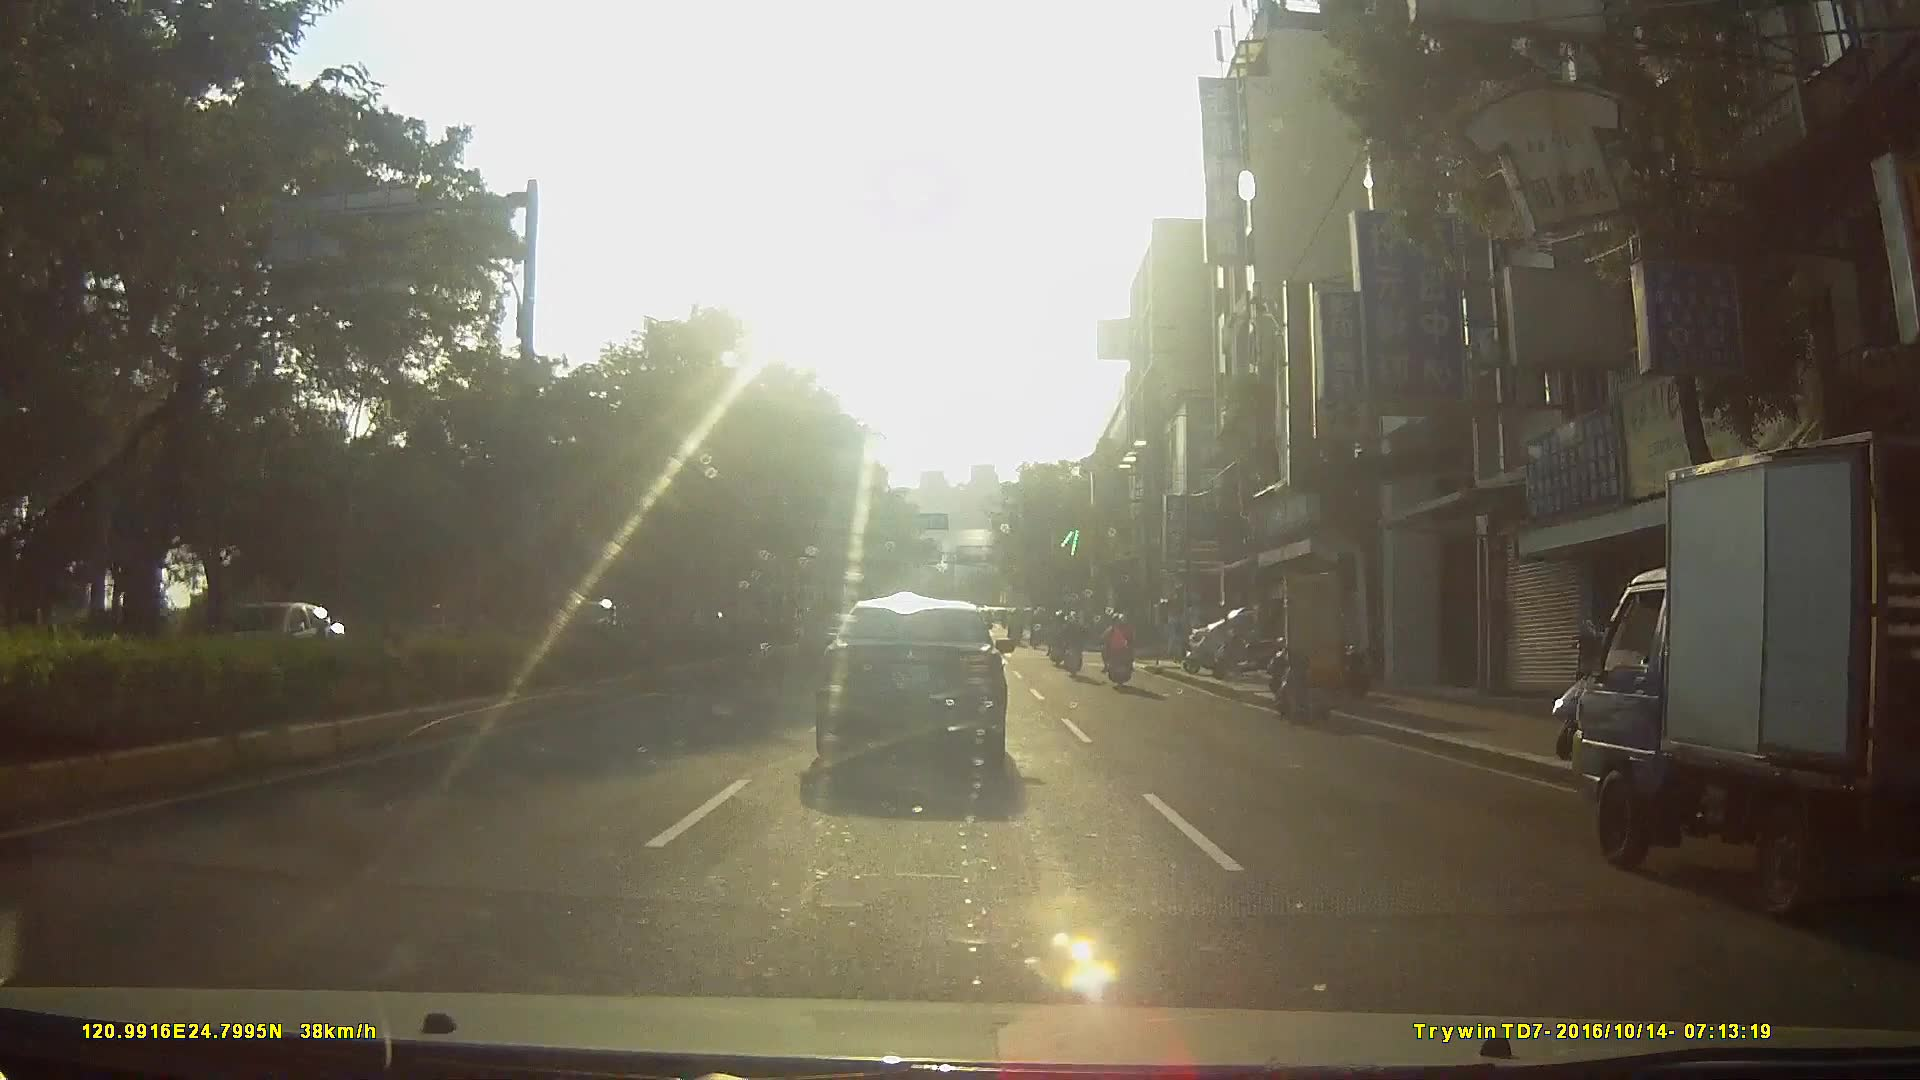rider: (1102, 617, 1137, 694), (1062, 611, 1087, 679), (1050, 609, 1071, 669)
vehicle: (1561, 427, 1920, 897), (810, 595, 1019, 783), (173, 599, 346, 675)
